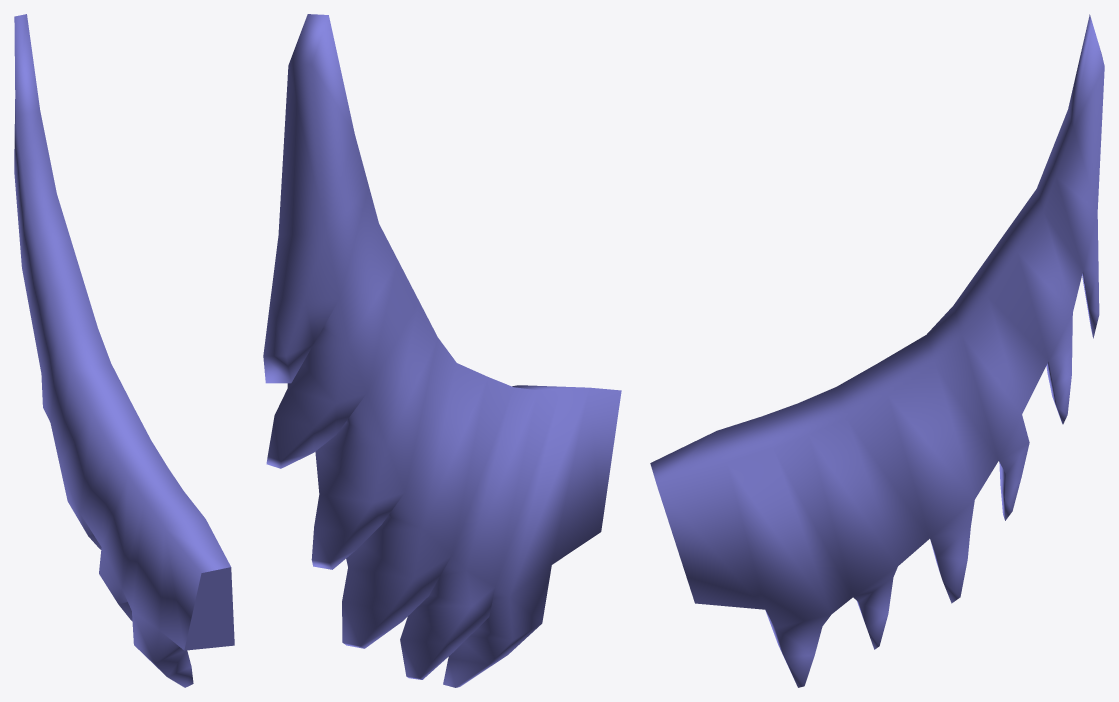
File: Simorgh_Part_2.fbx
3 renders of one model, left to right at view 1: azimuth 30°, elevation 25°; view 2: azimuth 150°, elevation 25°; view 3: azimuth 270°, elevation 25°, orthographic. The views are drawn at different scales.
Visible parts, largest first — view 1: Simorgh_Part_007; view 2: Simorgh_Part_007; view 3: Simorgh_Part_007.
Part boxes in pixels (x1=…): Simorgh_Part_007: x1=14, y1=14, x2=234, y2=687; Simorgh_Part_007: x1=263, y1=14, x2=621, y2=687; Simorgh_Part_007: x1=650, y1=14, x2=1104, y2=687.
Bounding box in the file's own units: 11.06 × 83.11 × 52.71.
